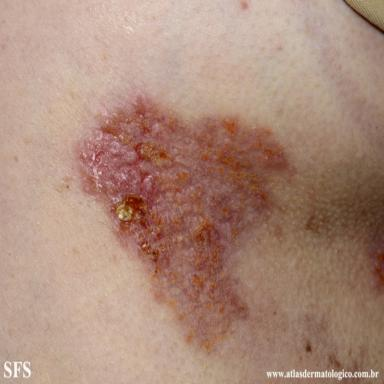Hailey-Hailey-Disease: (79, 95, 288, 348)
